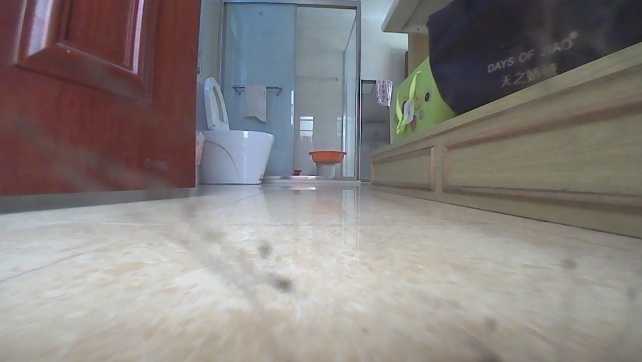toilet: (192, 76, 275, 185)
